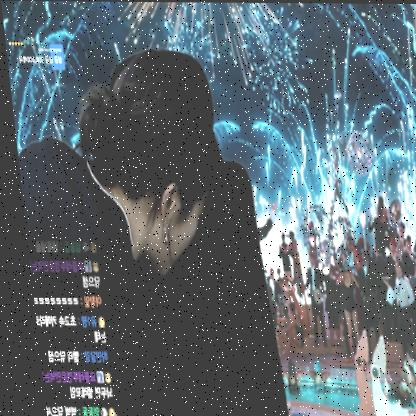streamer: (4, 47, 236, 416)
